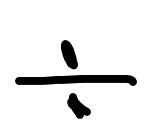div: (14, 40, 137, 119)
